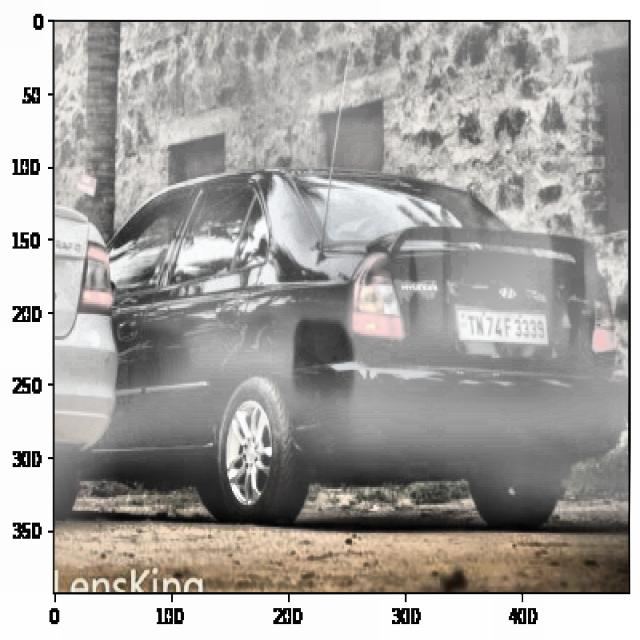license_plate: (462, 304, 550, 346)
